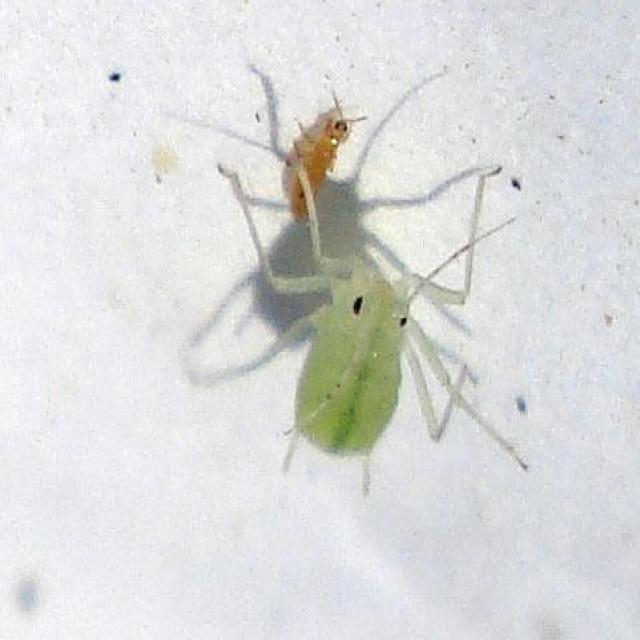Aphids: (214, 140, 520, 508)
